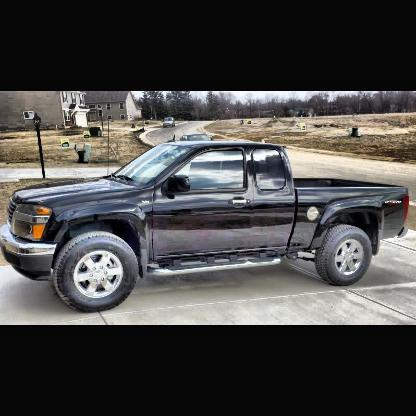GMC Canyon Extended Cab 2012: (2, 136, 413, 314)
